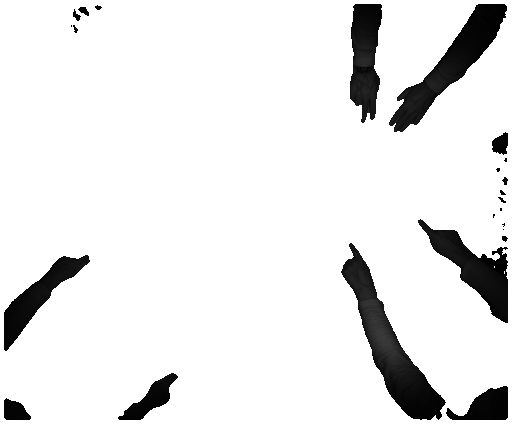hand: (416, 216, 467, 264), (344, 69, 384, 127), (336, 240, 377, 296), (388, 88, 436, 135), (50, 248, 95, 287), (145, 368, 183, 410)
